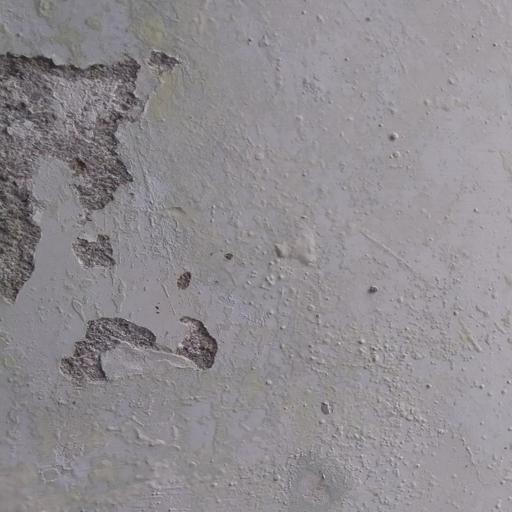peeling: (0, 0, 170, 298), (47, 282, 234, 395), (156, 235, 226, 308)
